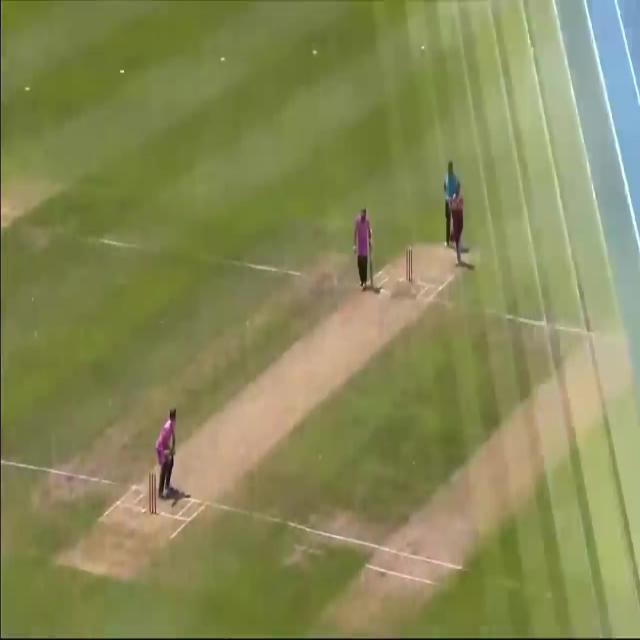Ball: (148, 404, 191, 503), (348, 206, 379, 292)
